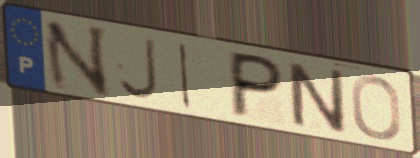I: (177, 40, 194, 112)
J: (116, 35, 161, 103)
N: (41, 19, 112, 99), (283, 58, 351, 137)
O: (349, 73, 404, 142)
P: (227, 48, 287, 121)
